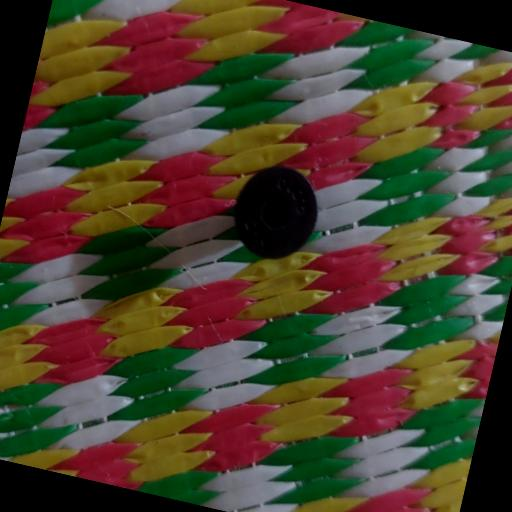Hex-Allen: (223, 158, 326, 268)
